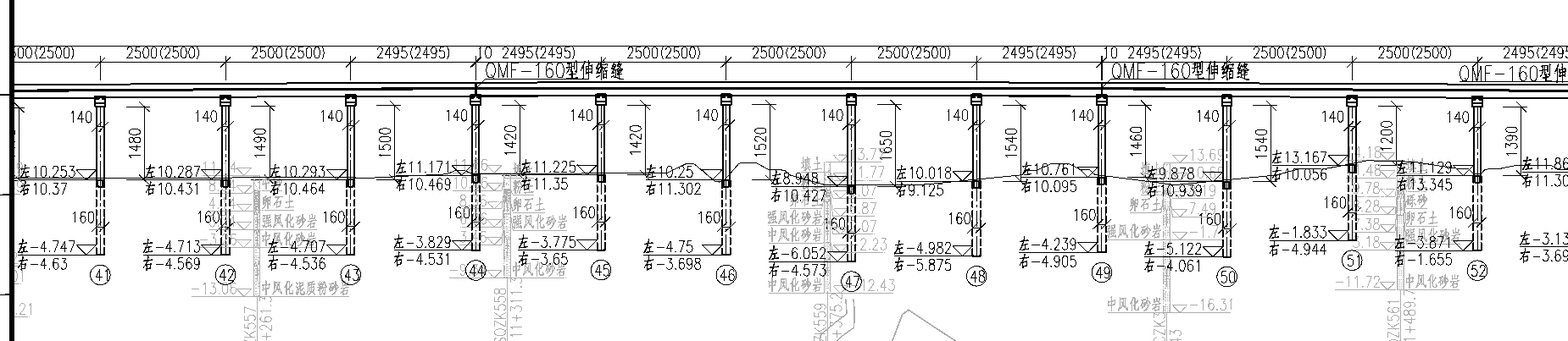C: (652, 88, 744, 292), (278, 91, 370, 292), (905, 89, 995, 293), (783, 89, 870, 298), (529, 88, 618, 286), (1031, 91, 1120, 289), (156, 90, 243, 290), (31, 92, 118, 292), (1163, 90, 1244, 293), (409, 89, 492, 286), (1288, 90, 1370, 276), (1419, 91, 1494, 286)
